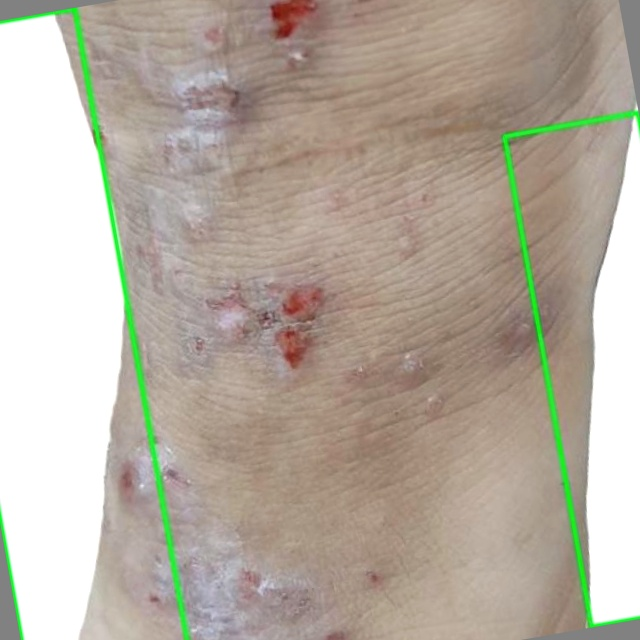Eczema: (0, 8, 186, 639), (504, 112, 639, 626)
